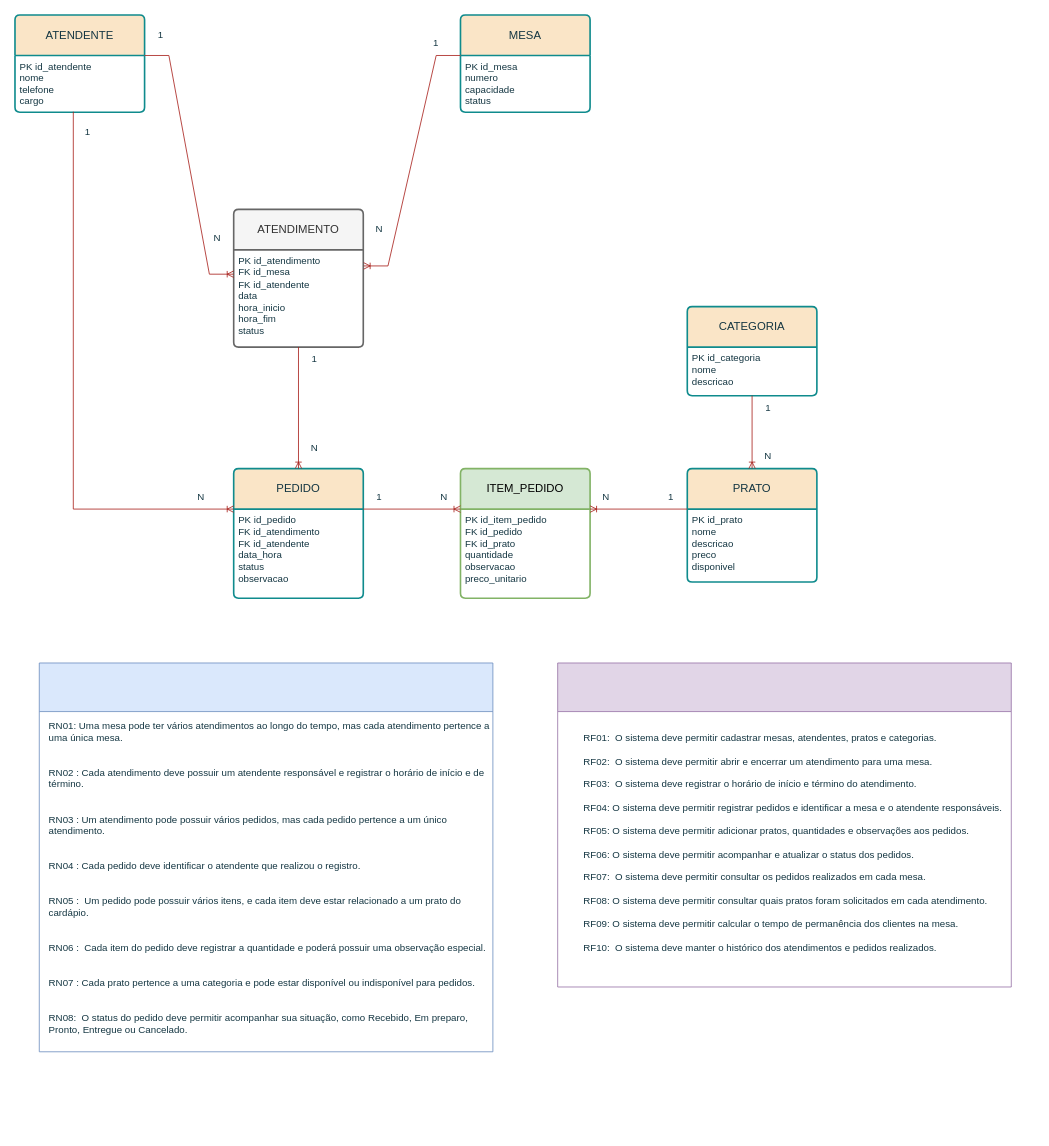
The diagram is 1049 pixels wide and 1146 high, and some of its shapes have lost their labels. The shapes that lost their labels are listed below. From the top down, each one's box as (x1, y1, x2, y2) in pixels, then its label:
(557, 662, 1011, 987): REQUISITOS FUNCIONAIS
(38, 662, 493, 1052): REGRAS DE NEGÓCIO
